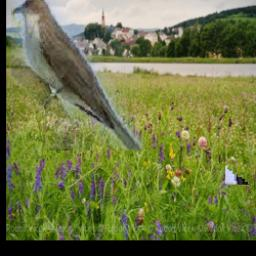Crow: (225, 81, 256, 186)
Cuckoo: (12, 0, 144, 150)
